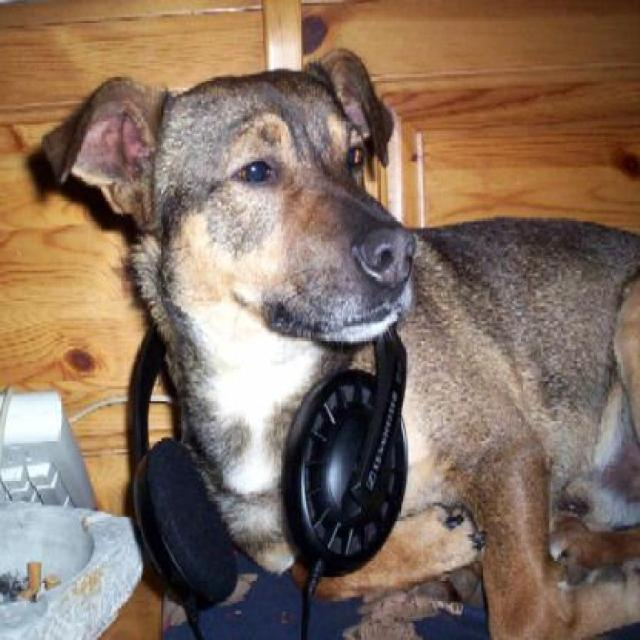earphone: (90, 312, 457, 598)
